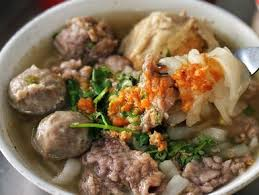bakso: (14, 6, 253, 183)
